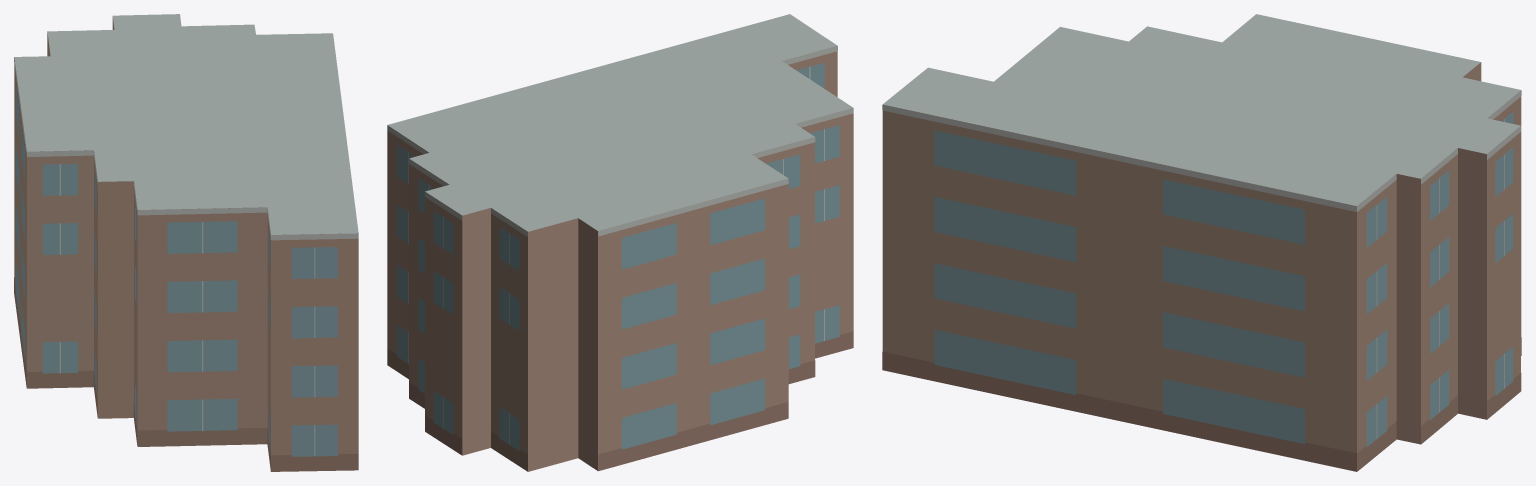
File: survey-upis-32582591.glb
3 views of the same model, side by side, from view 1: azimuth 30°, elevation 25°; view 2: azimuth 150°, elevation 25°; view 3: azimuth 270°, elevation 25° (orthographic). The views are drawn at different scales.
Parts seen in each view (by area): view 1: survey-upis-32582591.tmp; view 2: survey-upis-32582591.tmp; view 3: survey-upis-32582591.tmp.
Part boxes in pixels (<box>): survey-upis-32582591.tmp: <box>14,14,358,471</box>; survey-upis-32582591.tmp: <box>387,14,853,471</box>; survey-upis-32582591.tmp: <box>882,14,1521,471</box>.
Bounding box in the file's own units: 16.84 × 10.85 × 23.66.
